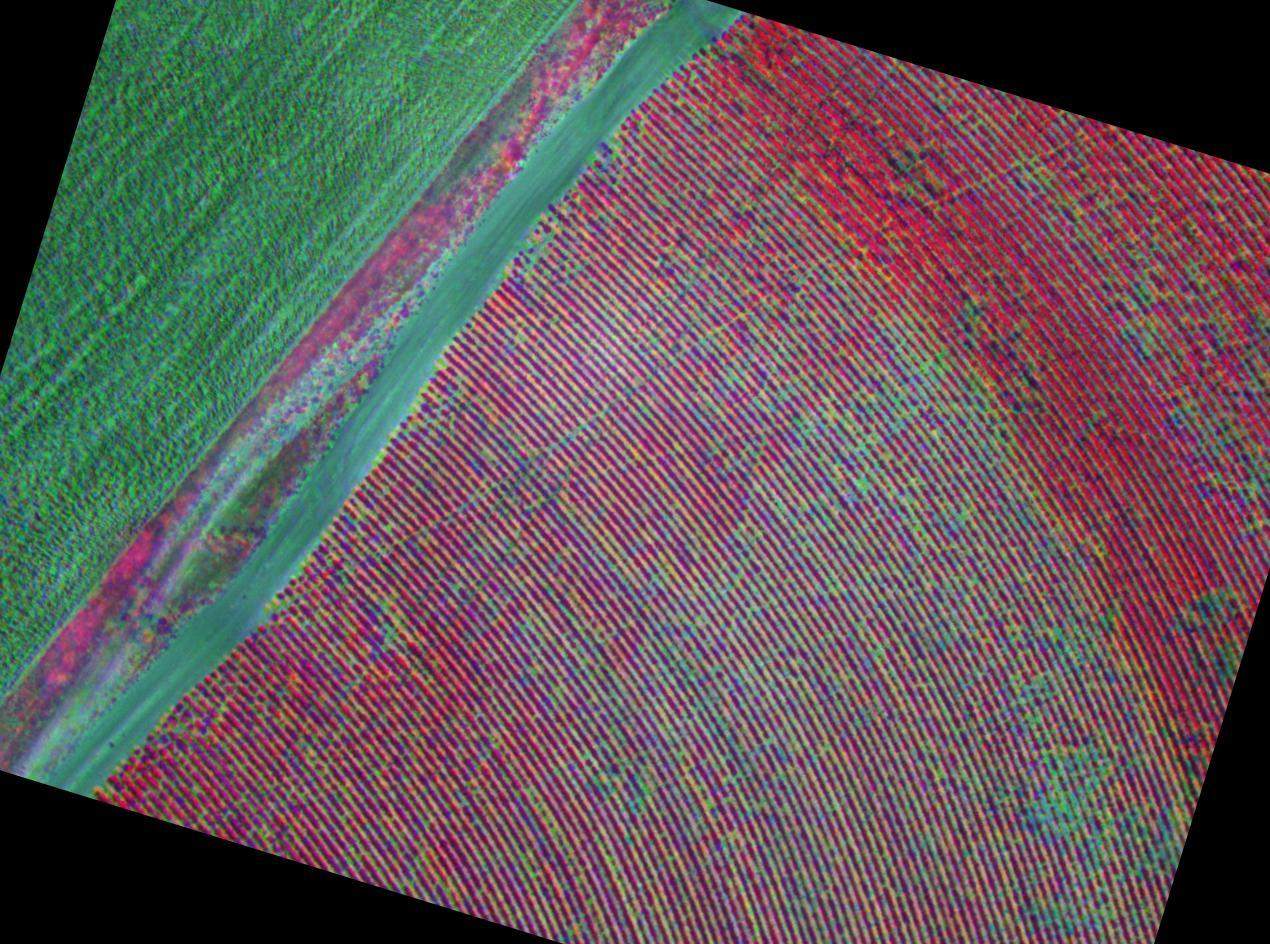dc: (906, 497, 911, 502), (1037, 678, 1042, 683), (1060, 806, 1066, 810), (483, 452, 488, 456), (860, 483, 865, 487), (696, 619, 701, 623), (1053, 780, 1057, 784)
